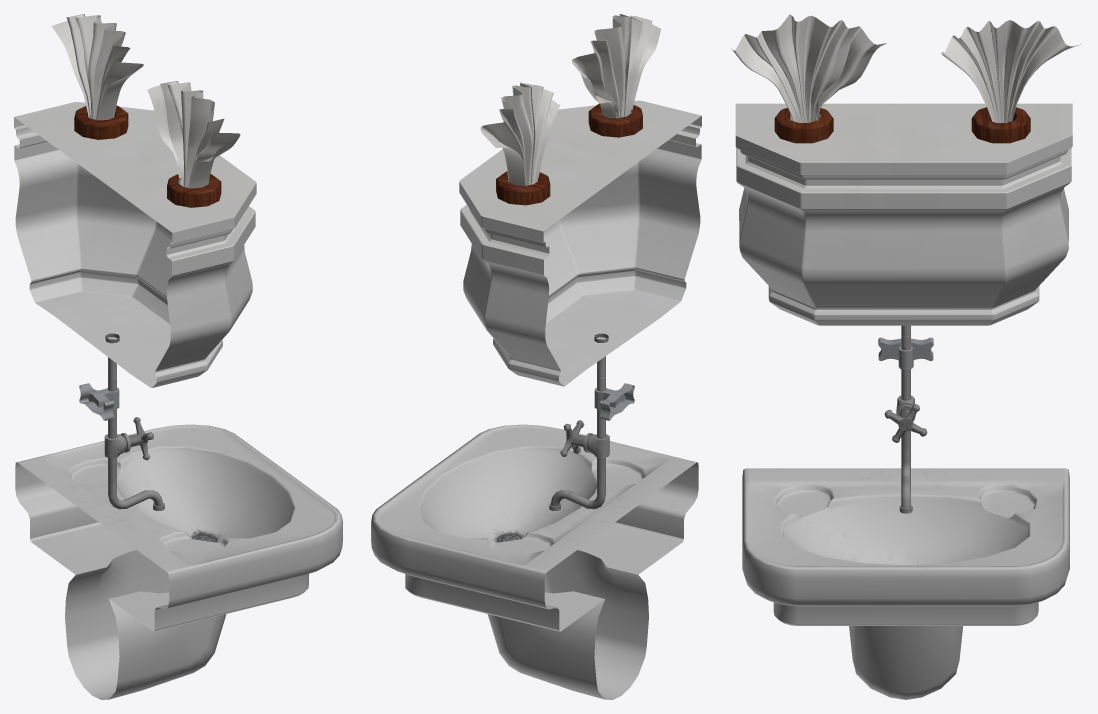
File: sink-wall-basin.glb
3 views of the same model, side by side, from view 1: azimuth 30°, elevation 25°; view 2: azimuth 150°, elevation 25°; view 3: azimuth 270°, elevation 25° (orthographic). The views are drawn at different scales.
Parts seen in each view (by area): view 1: Sink, Napkin_dispenser, napkin_L, napkin_R, faucet, napkin_holder_R, napkin_holder_L; view 2: Sink, Napkin_dispenser, napkin_L, napkin_R, faucet, napkin_holder_R, napkin_holder_L, faucet_knob; view 3: Napkin_dispenser, Sink, napkin_L, napkin_R, faucet, napkin_holder_R, napkin_holder_L, faucet_knob.
Boxes of the visible parts, bbox=[...] form: Sink: bbox=[15, 424, 342, 699]; Napkin_dispenser: bbox=[14, 102, 256, 387]; napkin_L: bbox=[147, 81, 240, 188]; napkin_R: bbox=[51, 14, 143, 120]; faucet: bbox=[79, 333, 164, 510]; napkin_holder_R: bbox=[74, 105, 128, 139]; napkin_holder_L: bbox=[167, 173, 221, 207]; Sink: bbox=[371, 424, 698, 699]; Napkin_dispenser: bbox=[459, 100, 701, 386]; napkin_L: bbox=[572, 14, 660, 118]; napkin_R: bbox=[480, 82, 559, 185]; faucet: bbox=[549, 333, 634, 510]; napkin_holder_R: bbox=[496, 171, 550, 205]; napkin_holder_L: bbox=[588, 103, 642, 137]; faucet_knob: bbox=[560, 420, 585, 456]; Napkin_dispenser: bbox=[735, 103, 1072, 325]; Sink: bbox=[742, 468, 1069, 699]; napkin_L: bbox=[731, 14, 886, 122]; napkin_R: bbox=[941, 20, 1081, 122]; faucet: bbox=[878, 325, 933, 513]; napkin_holder_R: bbox=[971, 107, 1030, 143]; napkin_holder_L: bbox=[774, 108, 833, 143]; faucet_knob: bbox=[884, 404, 927, 442].
Bounding box in the file's own units: 0.2763 × 0.85 × 0.4073.
1 material, 1 textured.
